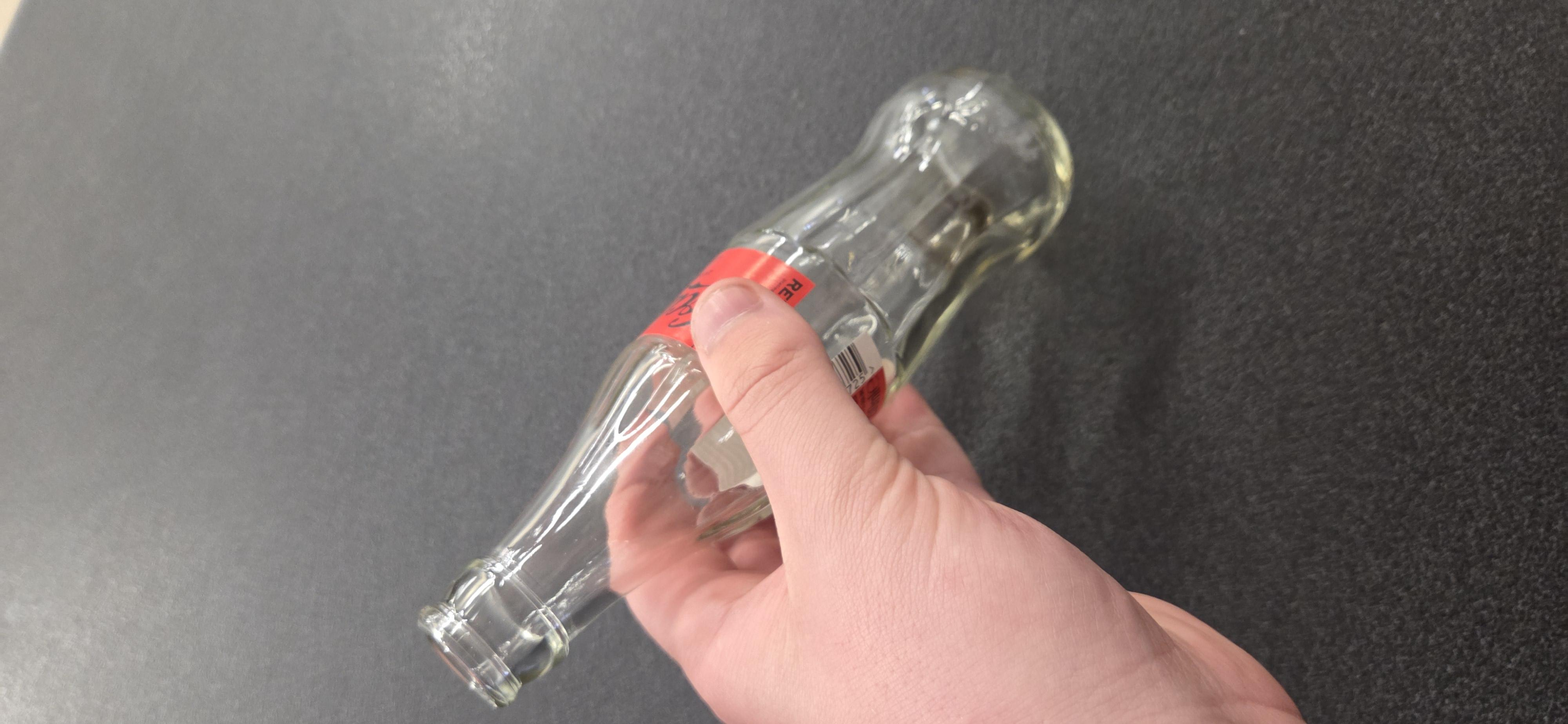Glass: (42, 190, 1426, 496)
